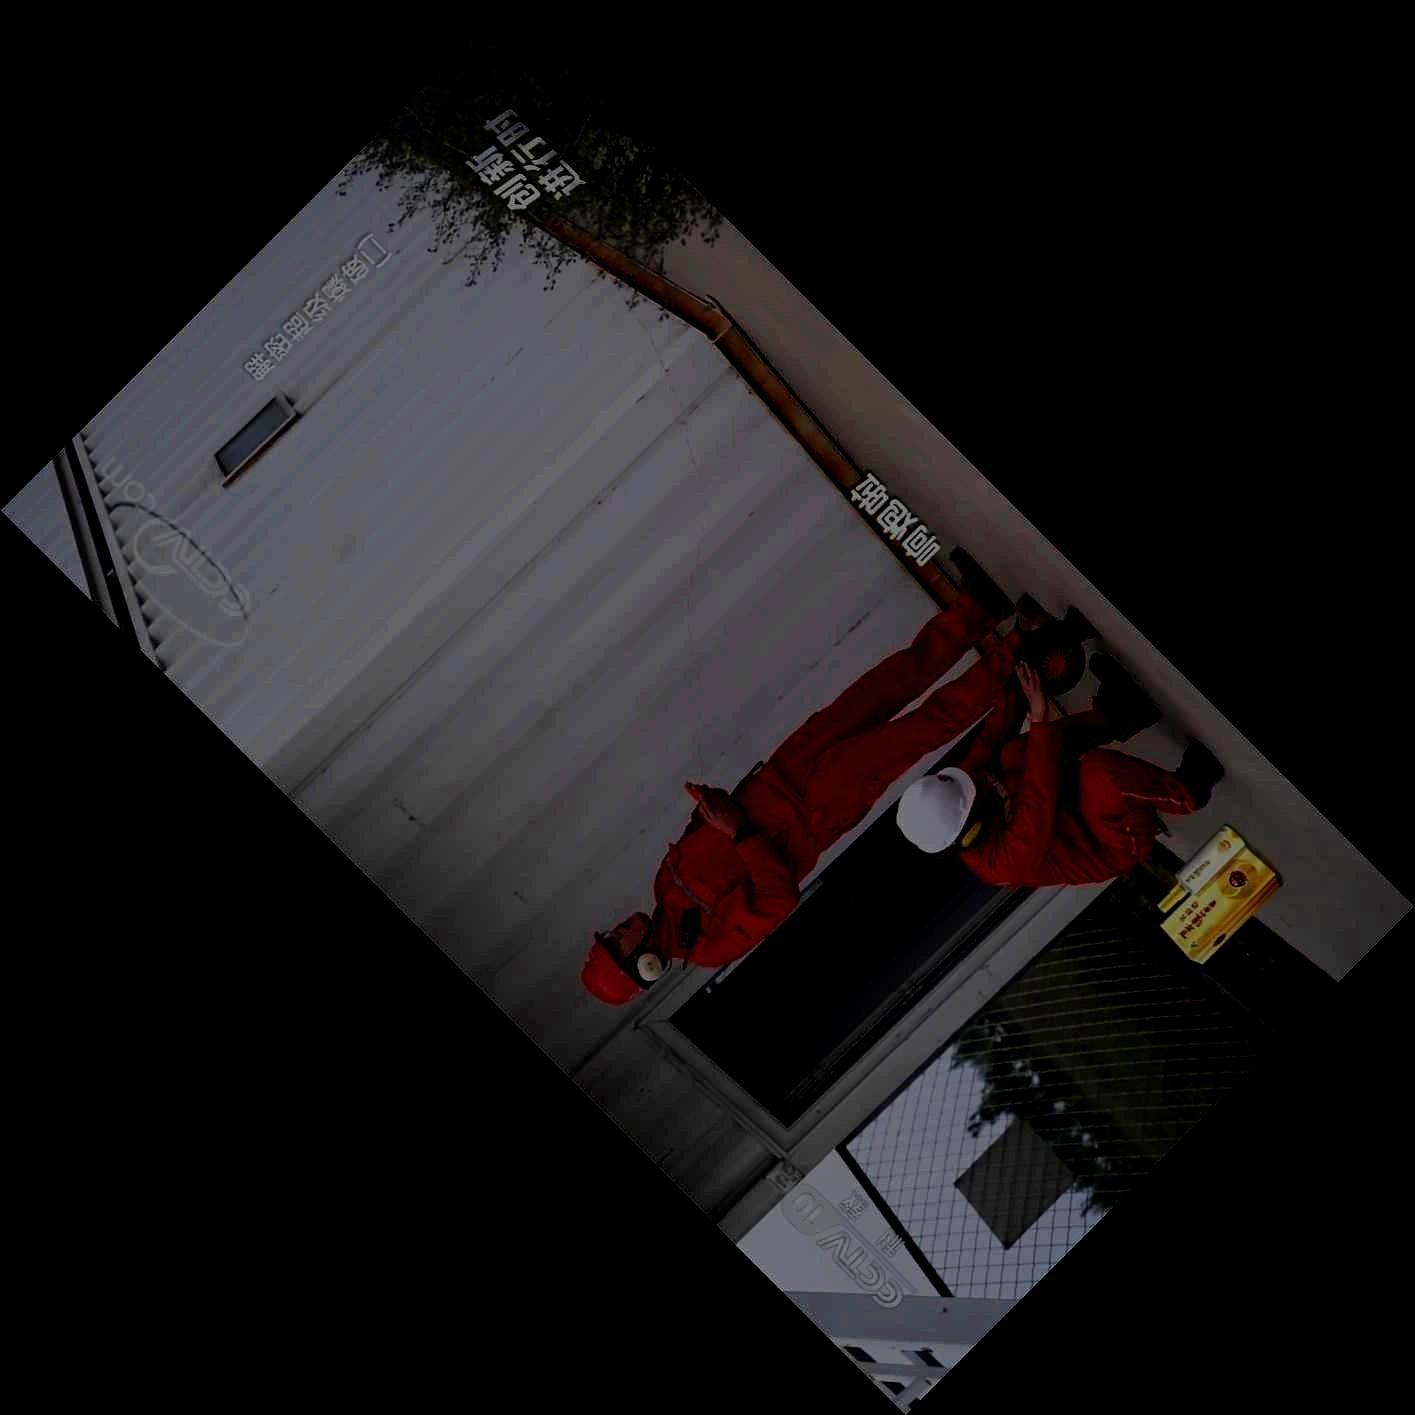helmet: (578, 912, 670, 1008), (895, 766, 985, 854)
